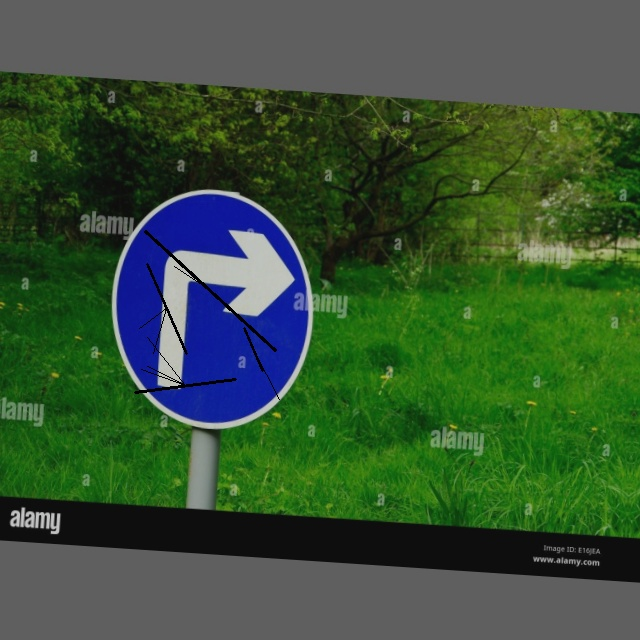Compulsory_Turn_Right_Ahead: (102, 180, 324, 437)
